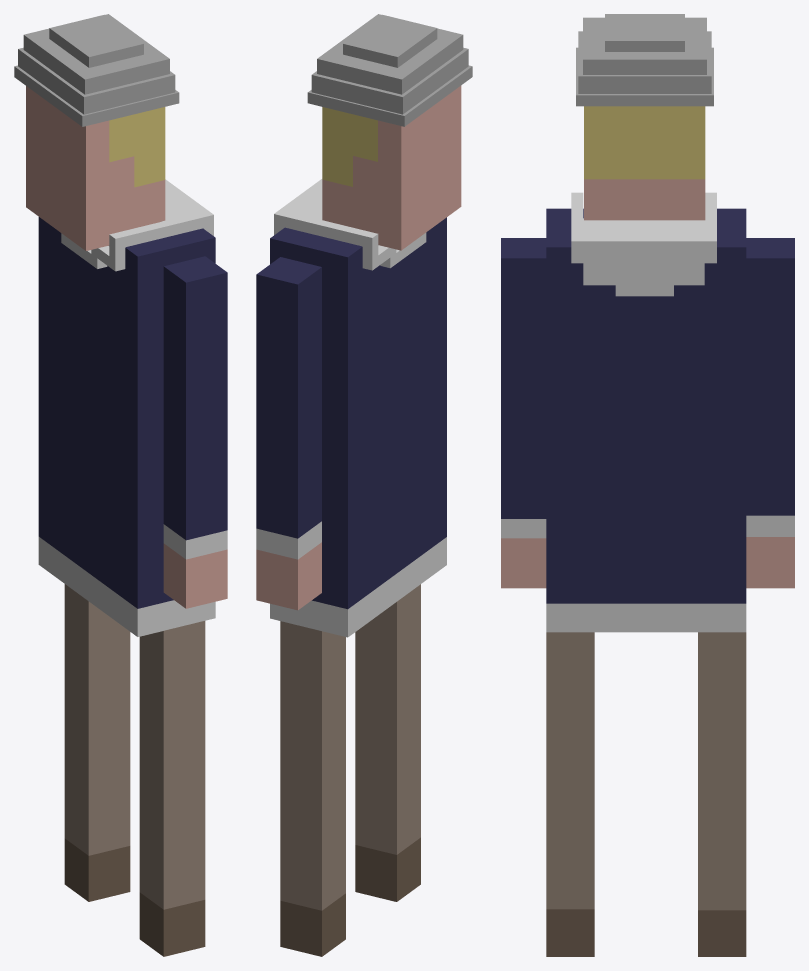
The model's file is Char_Hoodie_Beanie.fbx.
3 renders of one model, left to right at view 1: azimuth 30°, elevation 25°; view 2: azimuth 150°, elevation 25°; view 3: azimuth 270°, elevation 25°, orthographic.
Parts seen in each view (by area): view 1: pCube9, pCube13, pCube7, pCube11, pCube12, pCube17, pCube16; view 2: pCube9, pCube14, pCube11, pCube7, pCube12, pCube17, pCube16; view 3: pCube9, pCube14, pCube13, pCube11, pCube7, pCube12, pCube17, pCube16.
Part boxes in pixels (box(x1,y1,x2,y2)): pCube9: box(38, 217, 215, 636); pCube13: box(163, 256, 227, 608); pCube7: box(139, 621, 205, 956); pCube11: box(64, 584, 130, 901); pCube12: box(26, 86, 165, 250); pCube17: box(14, 14, 179, 126); pCube16: box(61, 179, 213, 271); pCube9: box(270, 217, 446, 637); pCube14: box(256, 257, 321, 610); pCube11: box(280, 621, 345, 956); pCube7: box(355, 584, 420, 901); pCube12: box(322, 85, 461, 250); pCube17: box(307, 14, 472, 126); pCube16: box(274, 179, 426, 270); pCube9: box(546, 208, 746, 632); pCube14: box(746, 238, 794, 588); pCube13: box(501, 238, 546, 588); pCube11: box(698, 632, 746, 956); pCube7: box(546, 632, 594, 956); pCube12: box(584, 106, 705, 220); pCube17: box(576, 14, 713, 106); pCube16: box(571, 192, 716, 296).
Size of the model in its own units: 0.00249 by 0.0164 by 0.00484.
